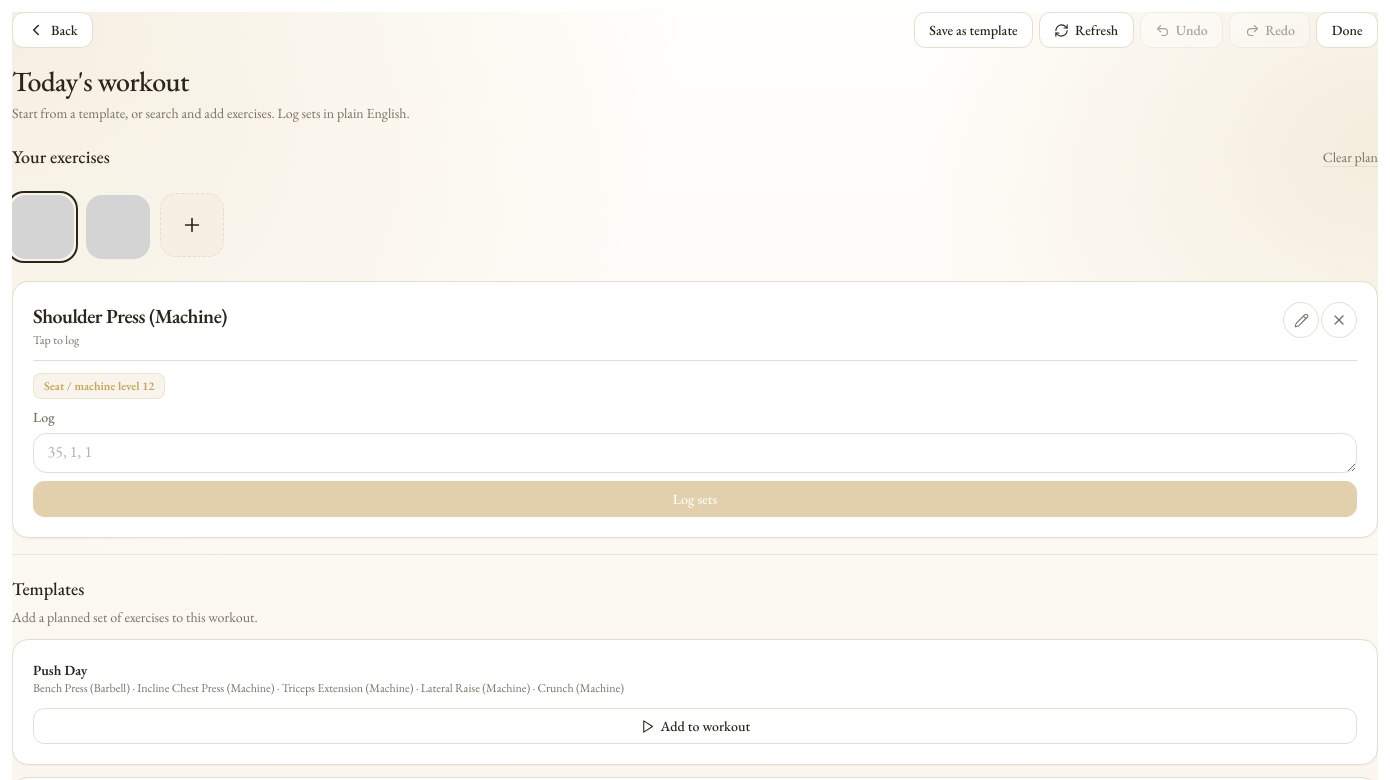
Test case: Session clear plan and back › clears planned exercises with no sets and returns to the empty template picker
Expected: the heading "Your exercises" is shown, [12, 143, 110, 171]
Step 1. Click the button "Clear plan" → x=1350, y=157, box [1323, 139, 1378, 175]
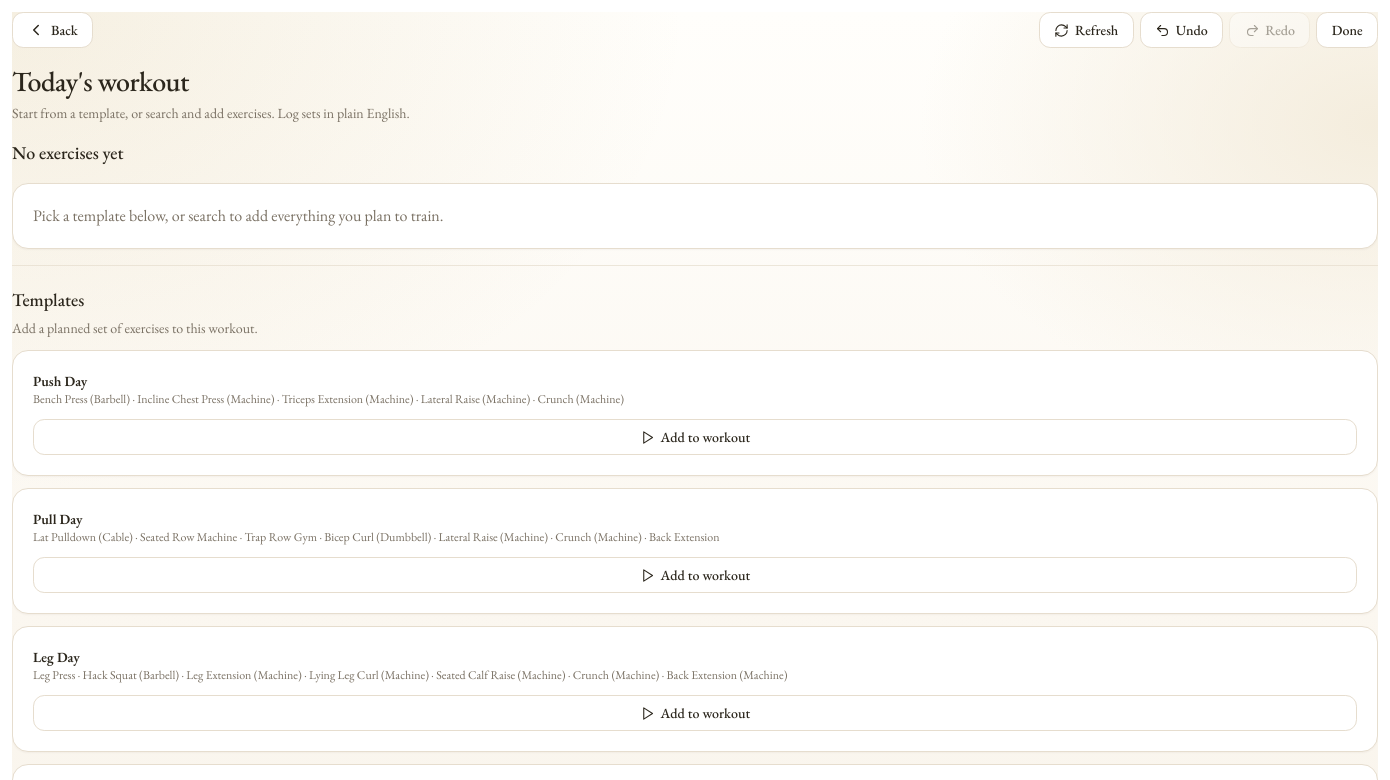
Expected: the heading "Templates" is shown, [12, 288, 84, 311]
Result: the heading "No exercises yet" is shown at [12, 139, 124, 167]
Result: the button "Clear plan" is gone
